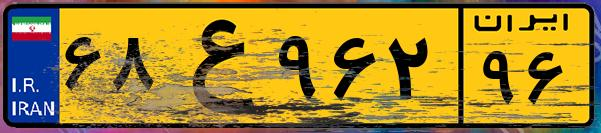2: (385, 28, 445, 110)
6: (330, 28, 385, 110), (57, 26, 110, 100), (525, 38, 570, 115)
8: (110, 28, 158, 98)
9: (270, 28, 330, 110), (475, 38, 525, 113)
ع: (158, 12, 270, 120)
